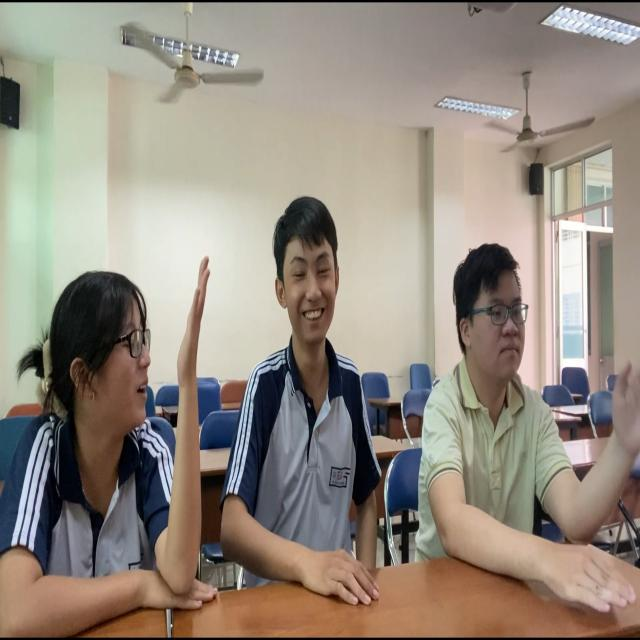raise_hand: (4, 232, 216, 640)
